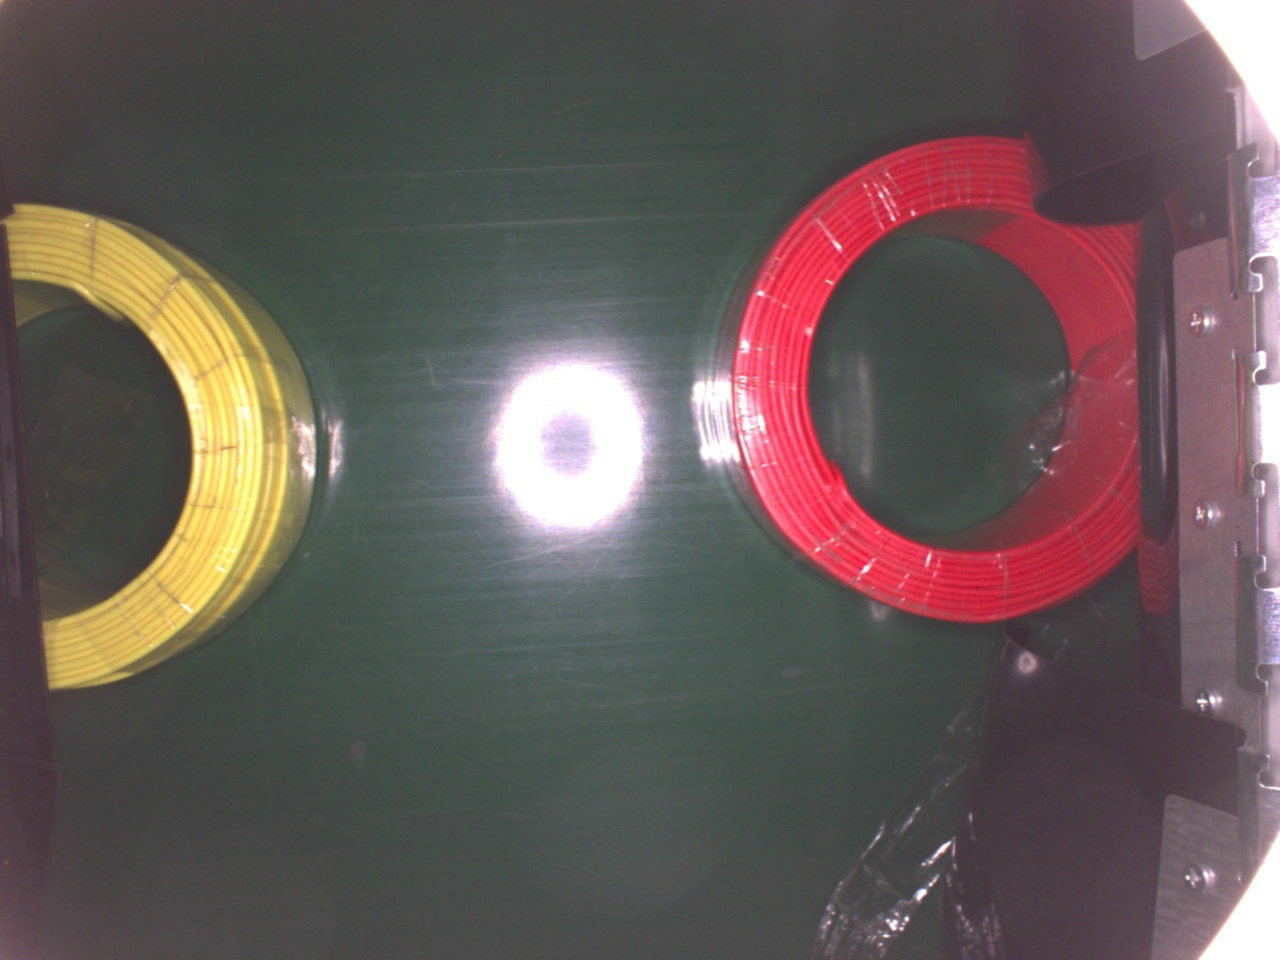red: (709, 127, 1146, 625)
yellow: (8, 203, 322, 697)
